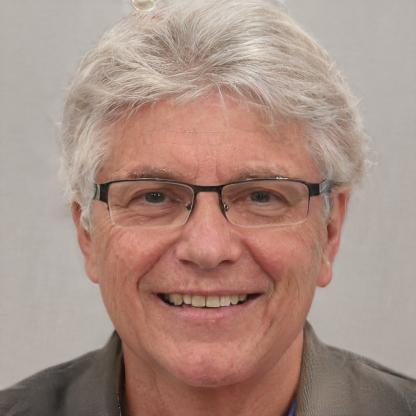glasses: (93, 172, 321, 232)
